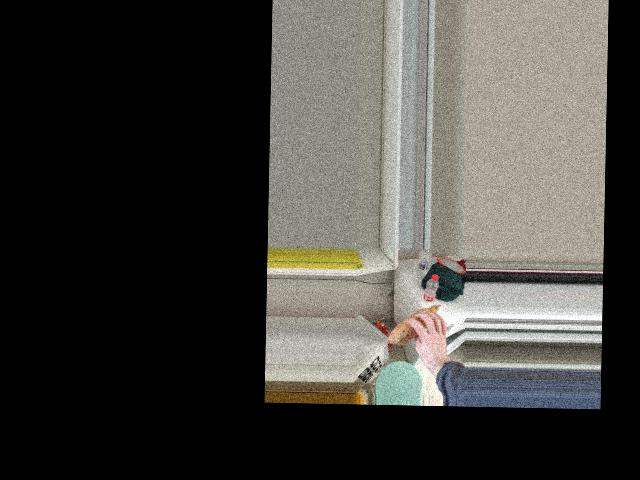sweet_potato: (391, 305, 444, 344)
